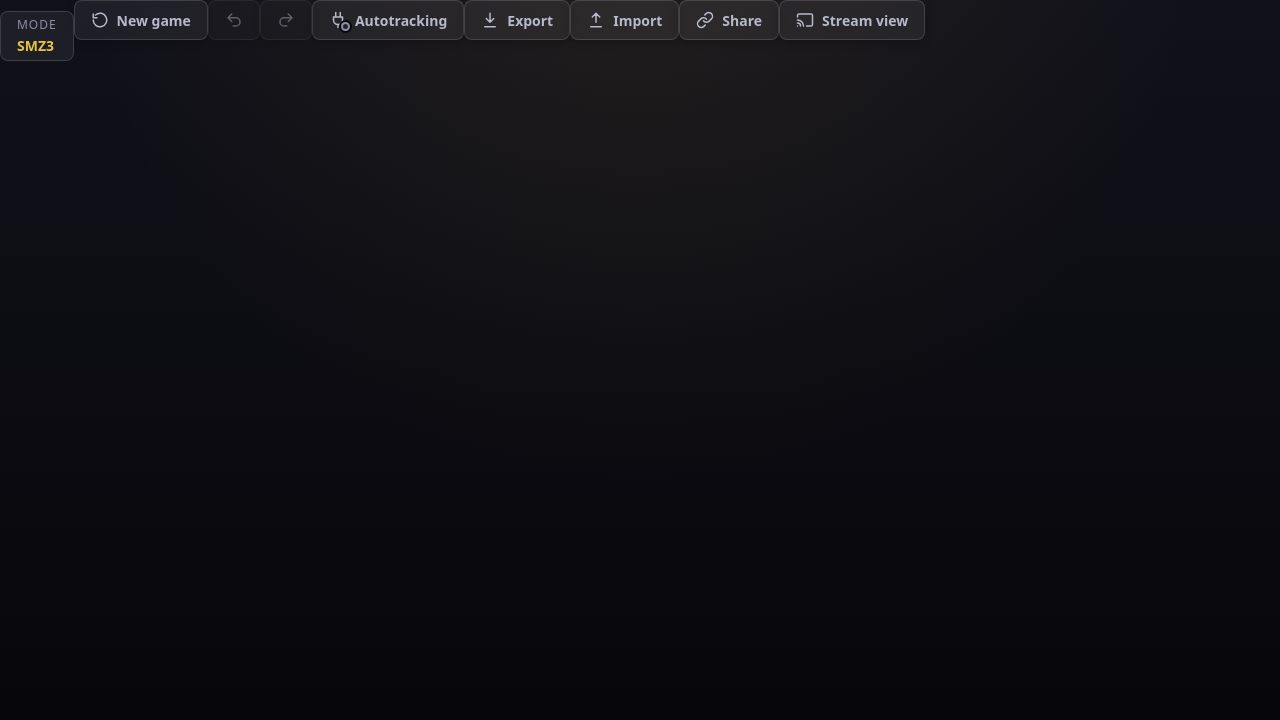
Test: the SMZ3 toolbar › when the clipboard refuses the stream view's address › leaves it selected for Ctrl+C when nothing can copy
This screenshot has width=1280, height=720.
Step 1. Click the button with test id "smz3-stream-view" → click(852, 20), box [779, 0, 925, 40]
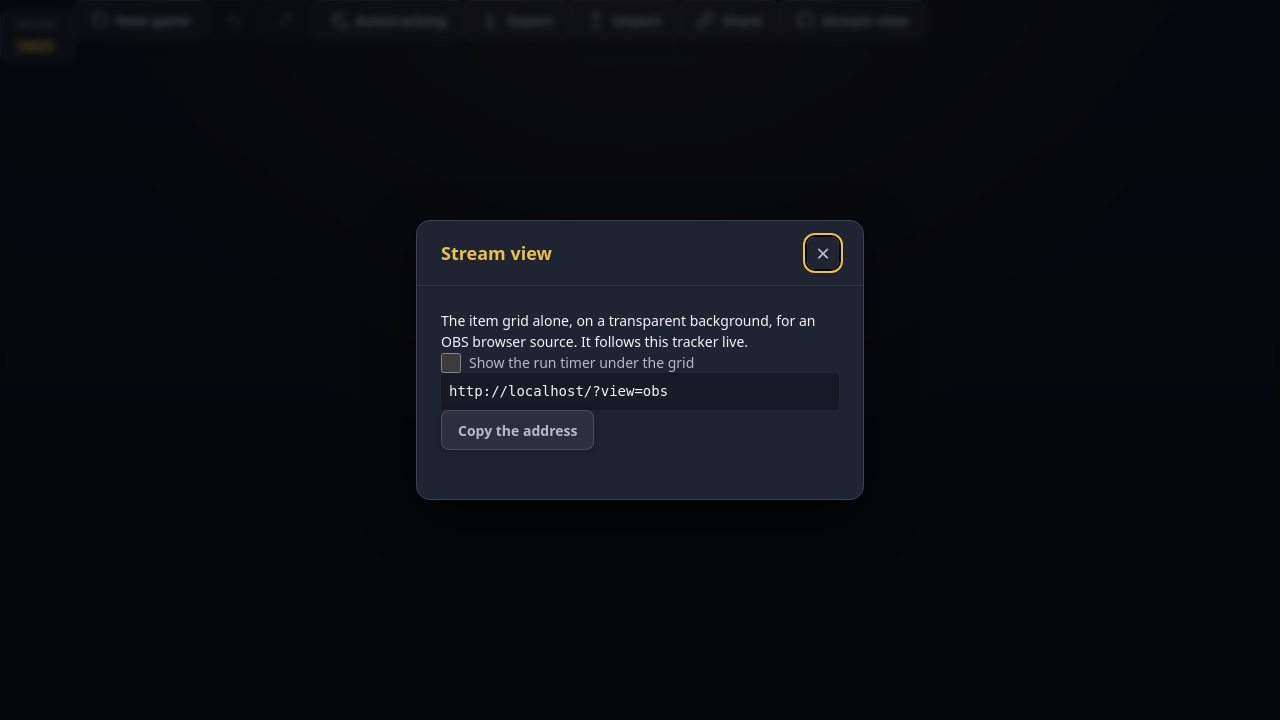
Step 2. Click the button "Copy the address" → click(518, 430), box [441, 410, 594, 450]
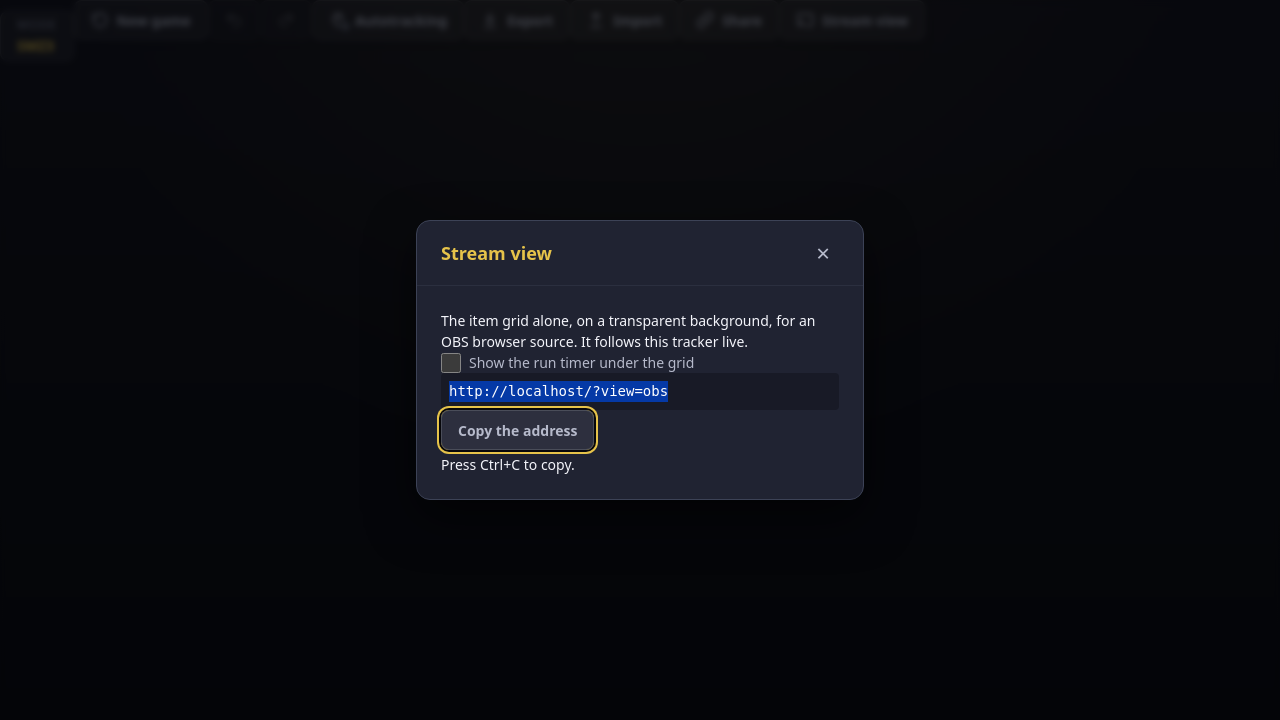
Result: the text "Press Ctrl+C to copy." is shown at [441, 455, 575, 474]
